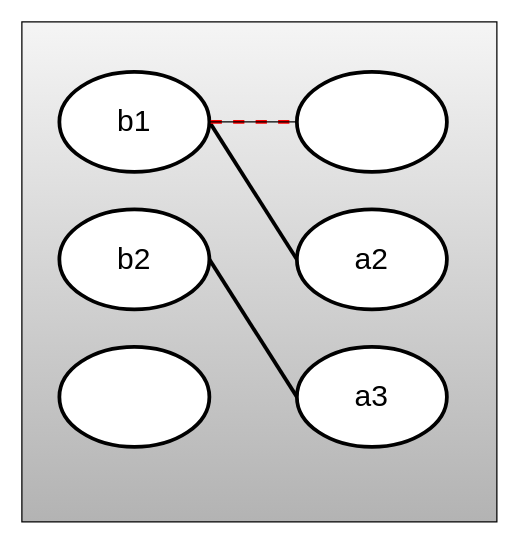
This 519x544 diagram has some shape labels left out. Each missing label, with the centre of its shape:
"a1" belongs at (x=371, y=121).
"b3" belongs at (x=134, y=396).
